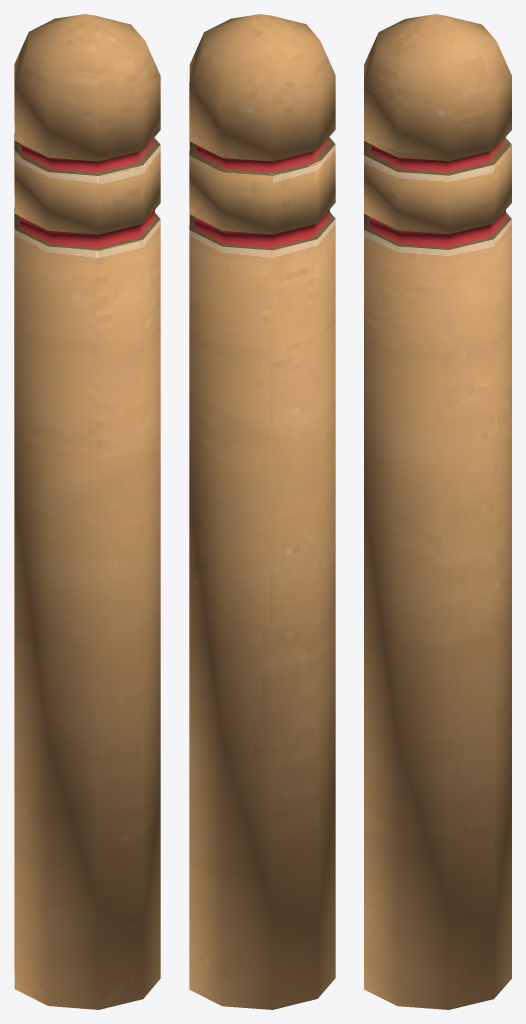
File: yellow_post.glb
3 views of the same model, side by side, from view 1: azimuth 30°, elevation 25°; view 2: azimuth 150°, elevation 25°; view 3: azimuth 270°, elevation 25° (orthographic).
Parts seen in each view (by area): view 1: Cylinder; view 2: Cylinder; view 3: Cylinder.
Boxes of the visible parts, x1,y1,x2,y2 form: Cylinder: (14, 14, 160, 1009); Cylinder: (189, 14, 335, 1009); Cylinder: (364, 14, 511, 1009).
Bounding box in the file's own units: 0.2032 × 1.46 × 0.2032.
Materials: 1 (1 with a texture image).
